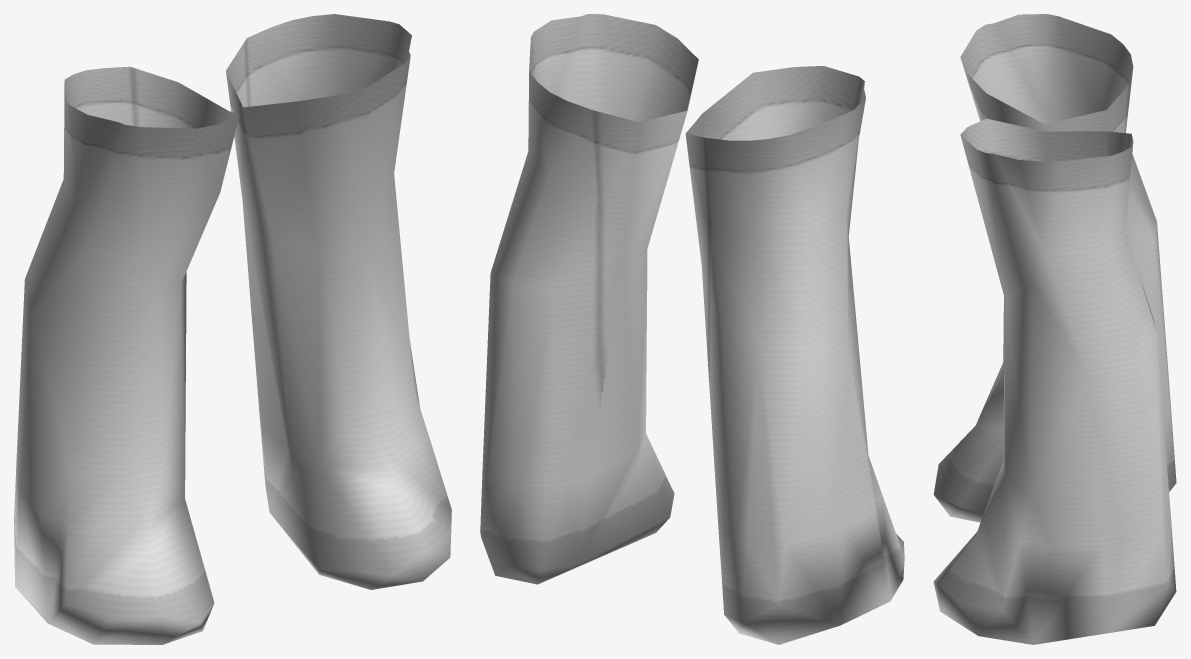
Rendered from Stockings.glb.
The picture shows the model from 3 angles, left to right: view 1: azimuth 30°, elevation 25°; view 2: azimuth 150°, elevation 25°; view 3: azimuth 270°, elevation 25°; orthographic projection. The views are drawn at different scales.
Visible parts, largest first — view 1: Stockings; view 2: Stockings; view 3: Stockings.
Part boxes in pixels (box(x1,y1,x2,y2)): Stockings: box(14, 14, 451, 644); Stockings: box(480, 14, 904, 644); Stockings: box(933, 14, 1176, 644).
Bounding box in the file's own units: 7.91 × 10.13 × 4.64.
Materials: 1 (1 with a texture image).
